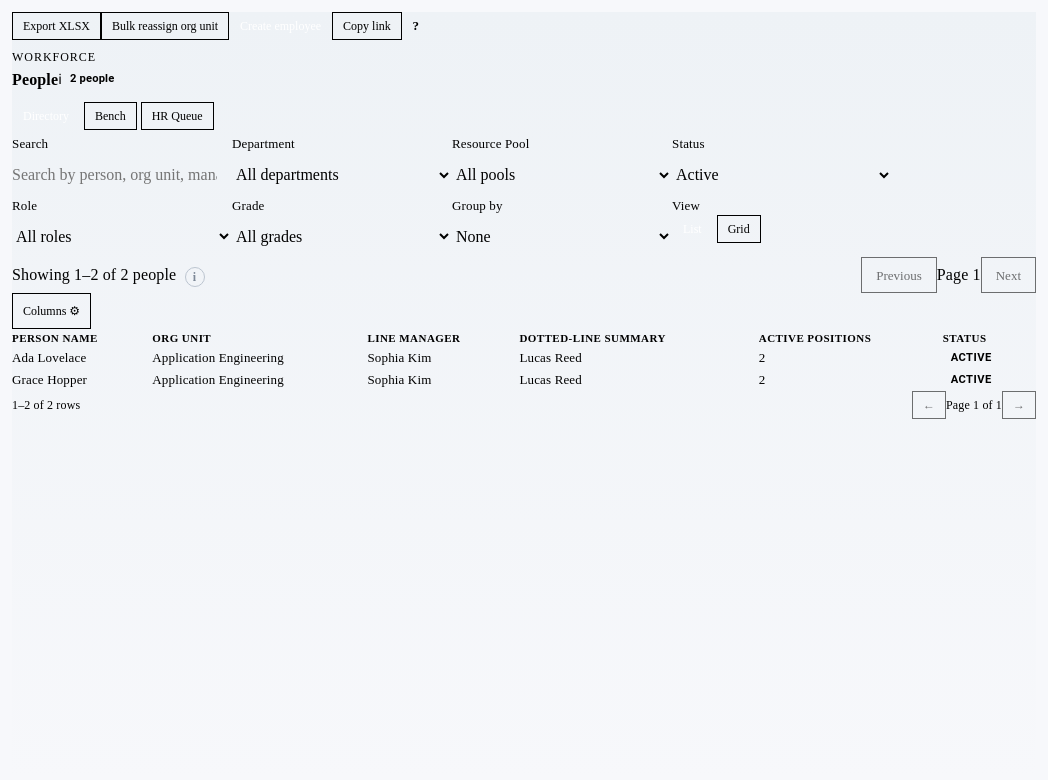
Test: EmployeeDirectoryPage › V2 issue 179: opens the inspector drawer on row click under dsRefresh (flat+list)
The width and height of the screenshot is (1048, 780).
Expected: the element with test id "directory-list-detail" is shown, left=12, top=293, right=1036, bottom=419
Click the text "Ada Lovelace".
click(82, 358)  # box left=12, top=347, right=152, bottom=369
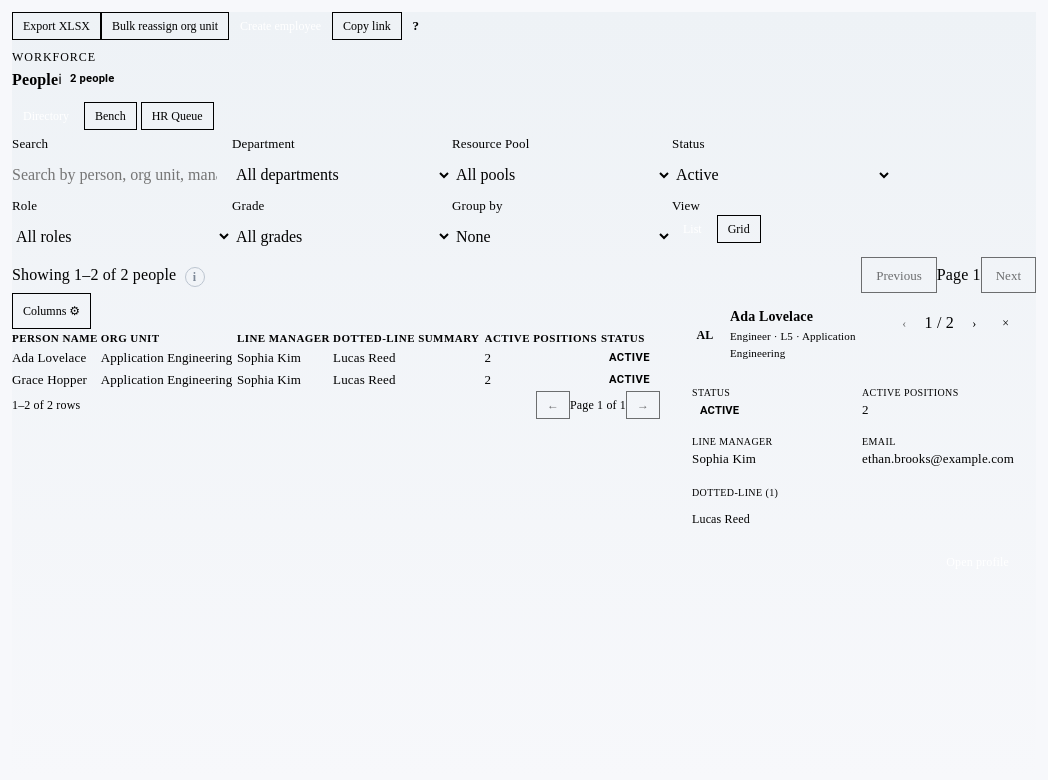
Now the element with test id "person-directory-inspector" is shown, box left=676, top=293, right=1036, bottom=592
Now the text "1 / 2" is shown, box left=925, top=314, right=954, bottom=331
